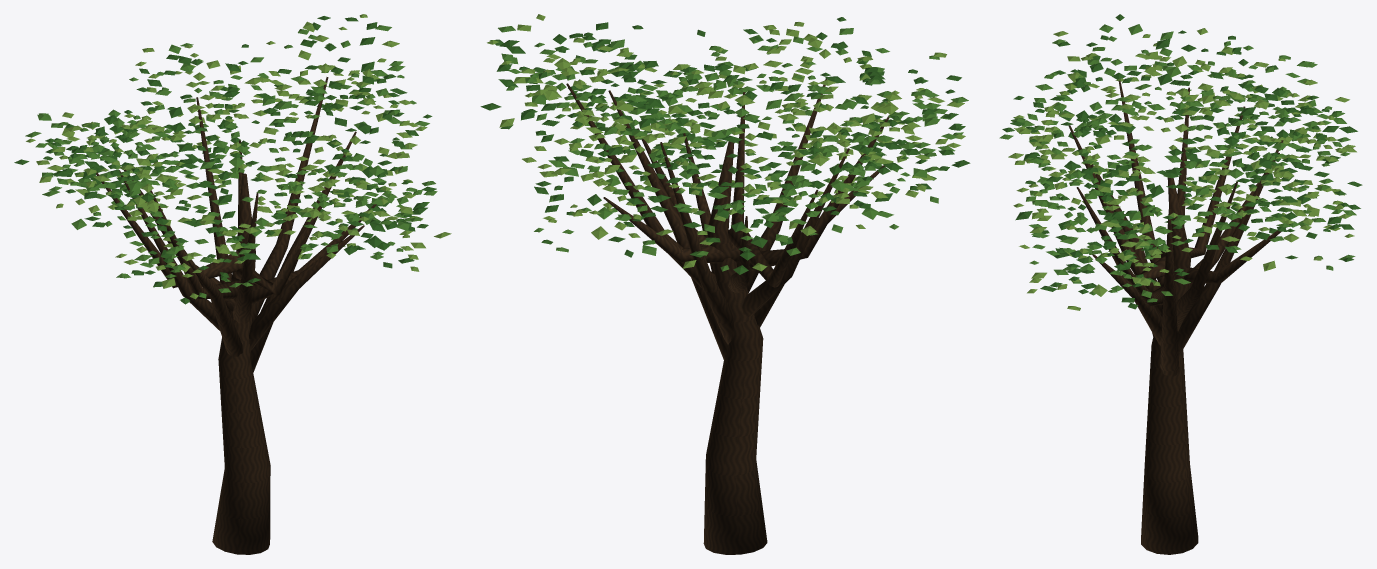
The model's file is oak.glb.
3 renders of one model, left to right at view 1: azimuth 30°, elevation 25°; view 2: azimuth 150°, elevation 25°; view 3: azimuth 270°, elevation 25°, orthographic. The views are drawn at different scales.
Visible parts, largest first — view 1: Ancient trunk; view 2: Ancient trunk; view 3: Ancient trunk.
Boxes of the visible parts, x1,y1,x2,y2 form: Ancient trunk: (14, 14, 451, 554); Ancient trunk: (480, 14, 970, 554); Ancient trunk: (999, 14, 1362, 554).
Bounding box in the file's own units: 5.55 × 6.56 × 4.7.
Materials: 4 (1 with a texture image).
